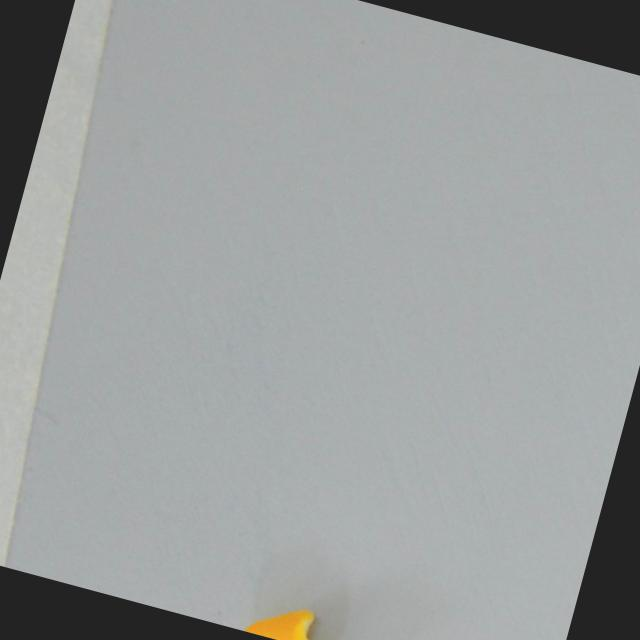no_canjicado: (239, 592, 347, 640)
